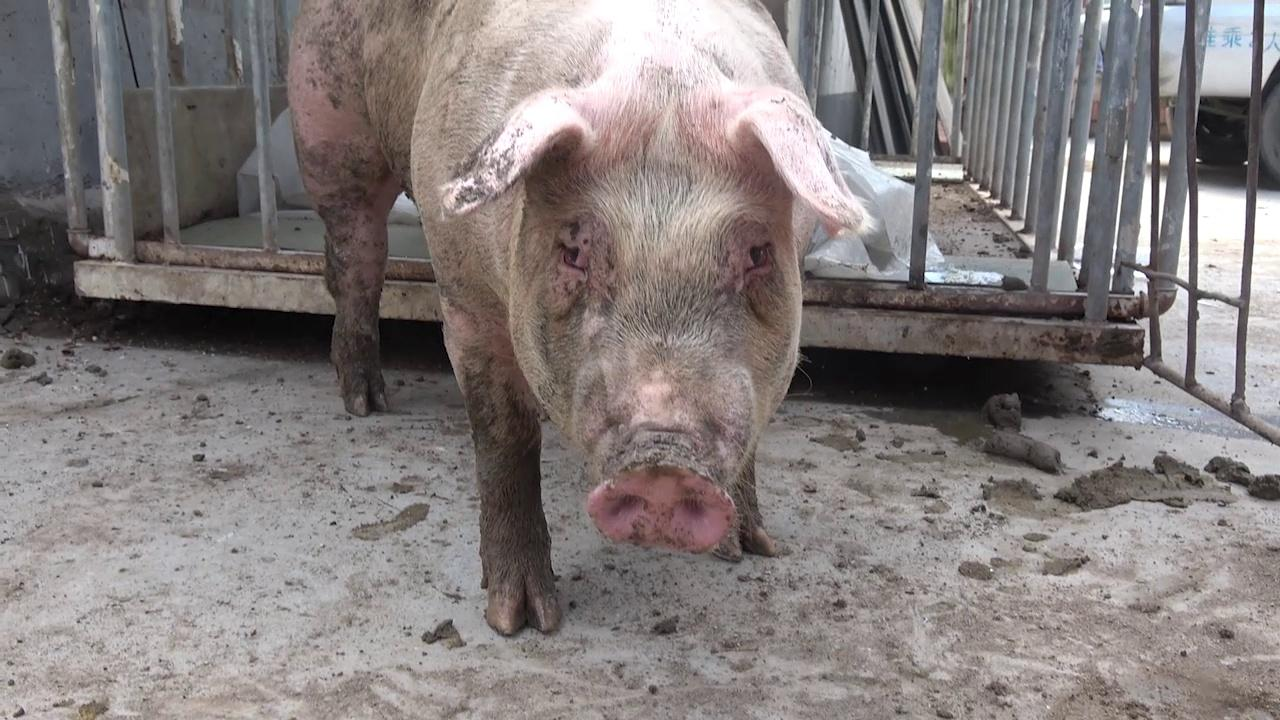Face: (435, 67, 882, 572)
